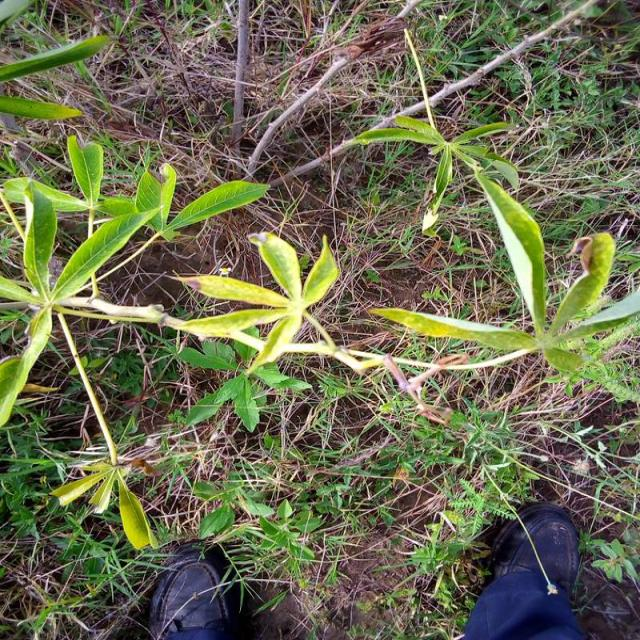cassava leaf: (469, 160, 546, 337), (549, 230, 615, 335)
